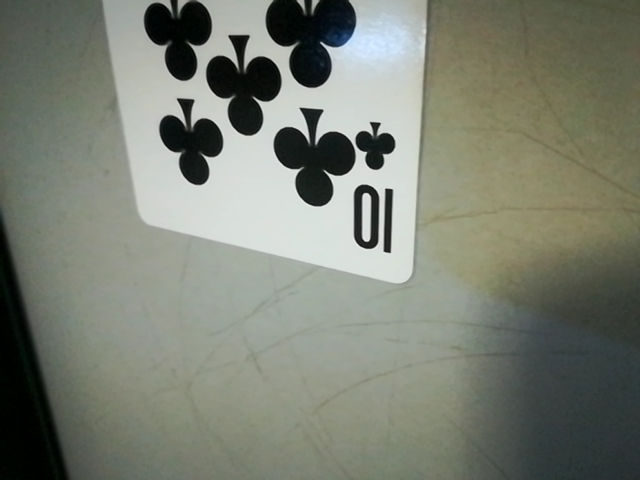mh 10: (348, 119, 409, 267)
